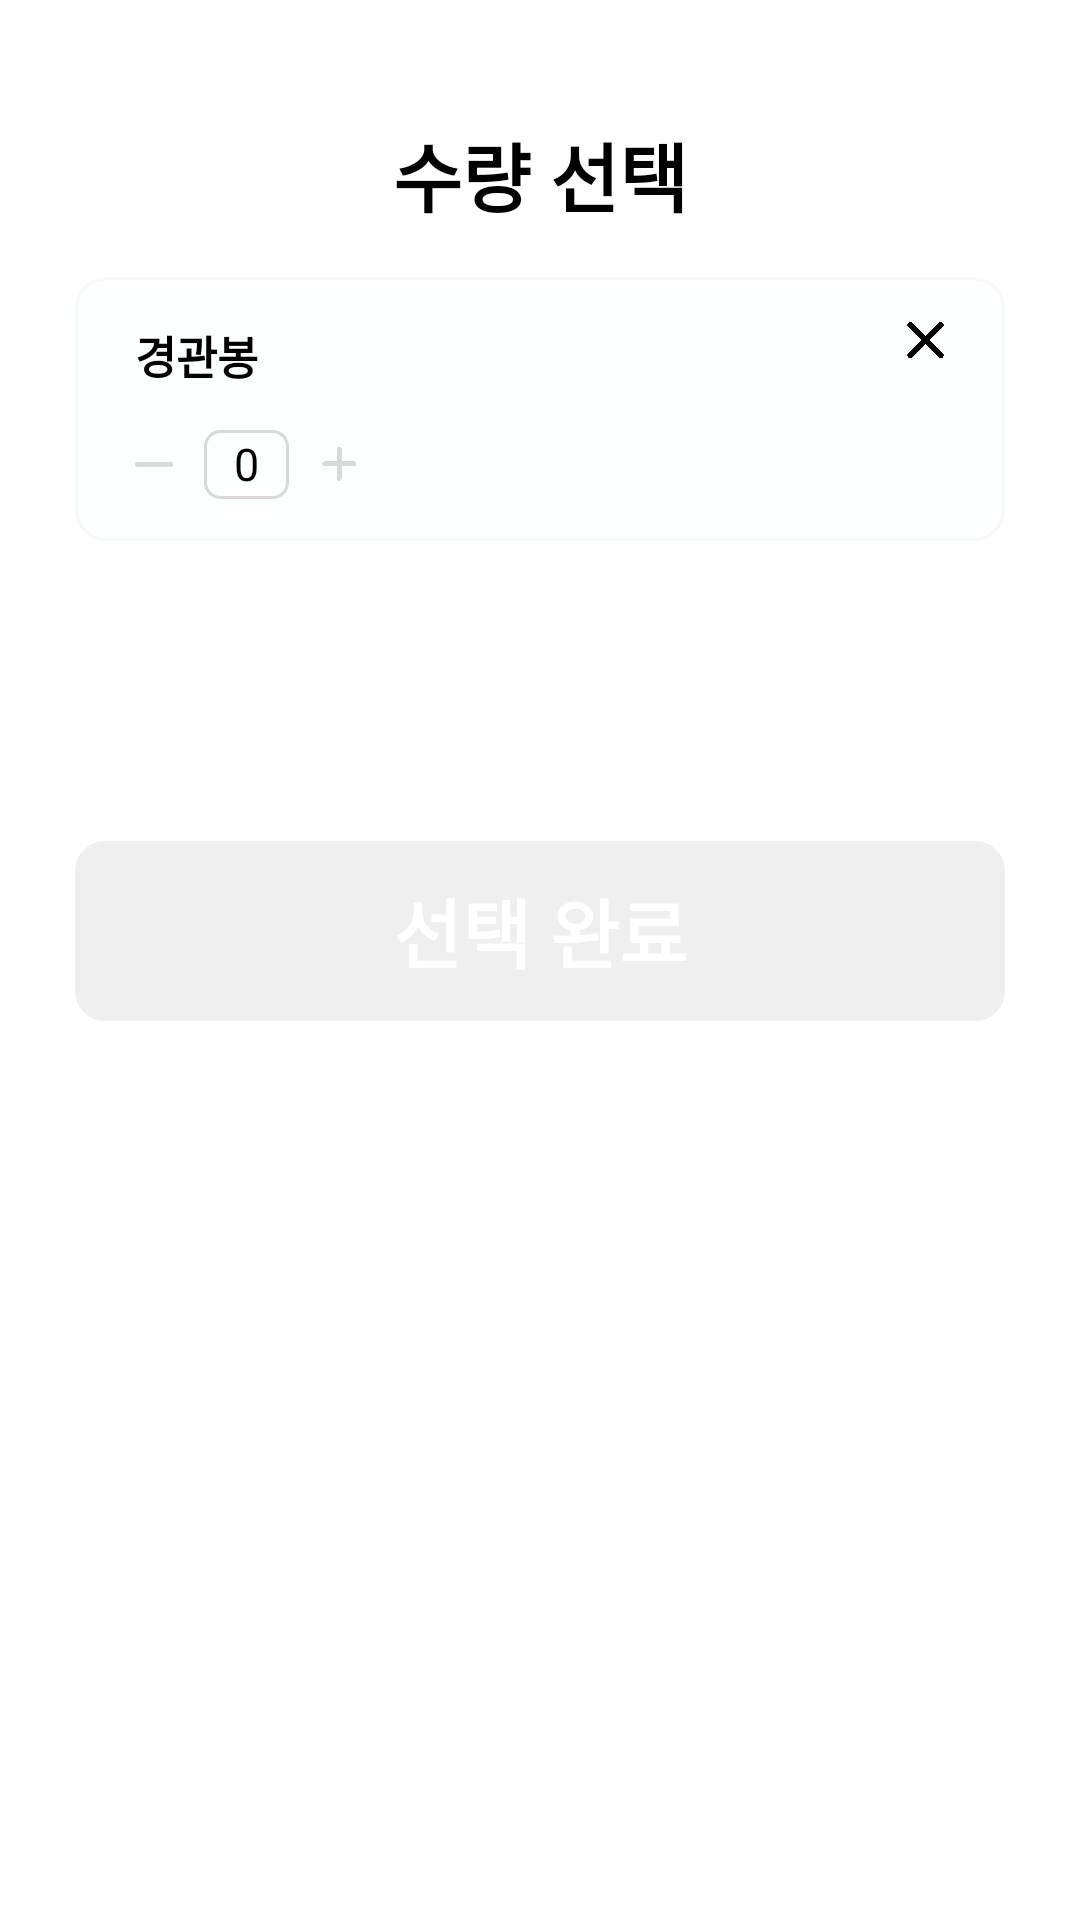

Screen size 1080*1920. Icon name, then its center in pixels as point (x, y):
multiply: point (925, 340)
plus: point (339, 464)
